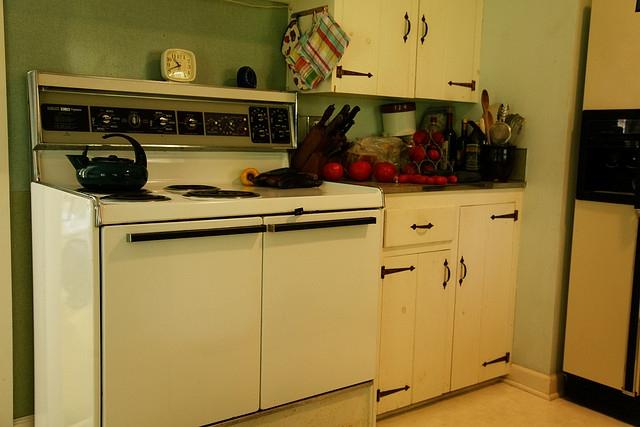tomato: (349, 161, 372, 182), (373, 162, 396, 182), (322, 163, 343, 181), (408, 146, 426, 162), (413, 130, 430, 145), (431, 132, 444, 146), (426, 150, 439, 162), (398, 174, 411, 184), (413, 176, 426, 185), (437, 176, 448, 185), (447, 176, 458, 185), (426, 178, 436, 185), (414, 174, 422, 178), (408, 175, 413, 179)
